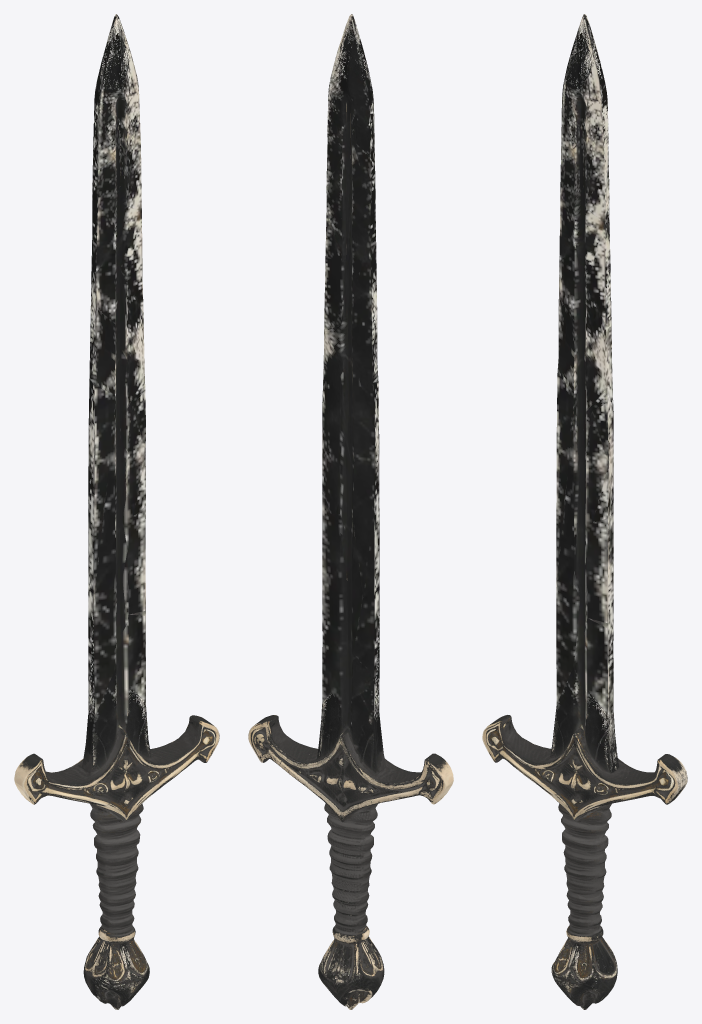
File: sword-black.glb
The picture shows the model from 3 angles, left to right: view 1: azimuth 30°, elevation 25°; view 2: azimuth 150°, elevation 25°; view 3: azimuth 330°, elevation 25°; orthographic projection.
Parts seen in each view (by area): view 1: Sword; view 2: Sword; view 3: Sword.
Part boxes in pixels (box(x1,y1,x2,y2)): Sword: box(14, 14, 219, 1009); Sword: box(248, 14, 453, 1009); Sword: box(482, 14, 687, 1009).
Size of the model in its own units: 0.1771 by 0.85 by 0.0513.
Materials: 1 (1 with a texture image).
